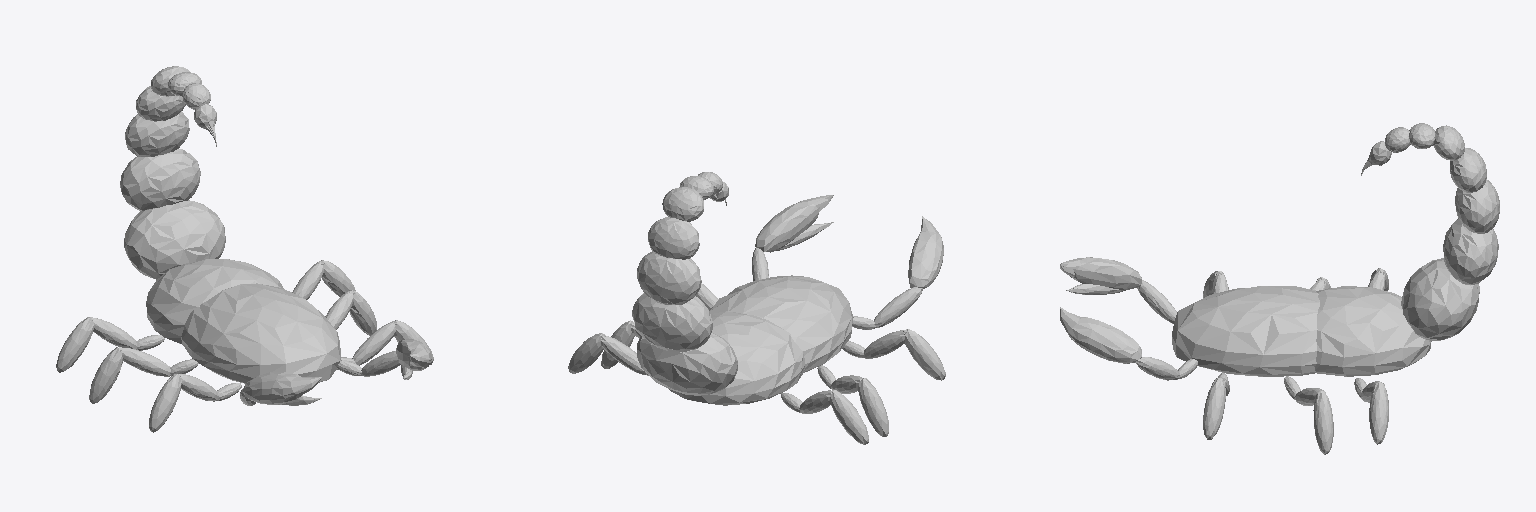
Rendered from scorpion_000029.obj.
The picture shows the model from 3 angles: view 1: azimuth 30°, elevation 25°; view 2: azimuth 150°, elevation 25°; view 3: azimuth 270°, elevation 25°; orthographic projection.
Visible parts, largest first — view 1: Sphere.010_Sphere.012, Sphere.002_Sphere.004, Sphere.011_Sphere.013, Sphere.003_Sphere.005, Sphere.030_Sphere.000, Sphere.004_Sphere.006, Sphere.012_Sphere.020, Sphere.014_Sphere.023, Sphere.013_Sphere.017, Sphere.000_Sphere.019, Sphere.016_Sphere.022, Sphere.018_Sphere.025 (+5 smaller); view 2: Sphere.010_Sphere.012, Sphere.011_Sphere.013, Sphere.002_Sphere.004, Sphere.030_Sphere.000, Sphere.003_Sphere.005, Sphere.004_Sphere.006, Sphere.014_Sphere.023, Sphere.005_Sphere.007, Sphere.012_Sphere.020, Sphere.028_Sphere.046, Sphere.018_Sphere.025, Sphere.006_Sphere.008 (+2 smaller); view 3: Sphere.010_Sphere.012, Sphere.011_Sphere.013, Sphere.002_Sphere.004, Sphere.030_Sphere.000, Sphere.003_Sphere.005, Sphere.004_Sphere.006, Sphere.028_Sphere.046, Sphere.005_Sphere.007, Sphere.000_Sphere.019, Sphere.014_Sphere.023, Sphere.012_Sphere.020, Sphere.006_Sphere.008 (+1 smaller).
Boxes of the visible parts, x1=… form: Sphere.010_Sphere.012: x1=181, y1=283, x2=340, y2=383; Sphere.002_Sphere.004: x1=124, y1=200, x2=225, y2=279; Sphere.011_Sphere.013: x1=146, y1=259, x2=283, y2=343; Sphere.003_Sphere.005: x1=120, y1=149, x2=200, y2=210; Sphere.030_Sphere.000: x1=243, y1=339, x2=431, y2=404; Sphere.004_Sphere.006: x1=125, y1=111, x2=189, y2=156; Sphere.012_Sphere.020: x1=89, y1=290, x2=376, y2=403; Sphere.014_Sphere.023: x1=56, y1=260, x2=355, y2=372; Sphere.013_Sphere.017: x1=179, y1=322, x2=395, y2=401; Sphere.000_Sphere.019: x1=149, y1=320, x2=433, y2=432; Sphere.016_Sphere.022: x1=121, y1=291, x2=353, y2=376; Sphere.018_Sphere.025: x1=92, y1=261, x2=323, y2=348; Sphere.010_Sphere.012: x1=709, y1=275, x2=852, y2=372; Sphere.011_Sphere.013: x1=669, y1=311, x2=804, y2=405; Sphere.002_Sphere.004: x1=637, y1=330, x2=737, y2=395; Sphere.030_Sphere.000: x1=755, y1=195, x2=943, y2=288; Sphere.003_Sphere.005: x1=632, y1=293, x2=712, y2=352; Sphere.004_Sphere.006: x1=637, y1=251, x2=701, y2=304; Sphere.014_Sphere.023: x1=568, y1=333, x2=868, y2=444; Sphere.005_Sphere.007: x1=648, y1=217, x2=699, y2=259; Sphere.012_Sphere.020: x1=601, y1=320, x2=888, y2=436; Sphere.028_Sphere.046: x1=752, y1=248, x2=922, y2=327; Sphere.018_Sphere.025: x1=601, y1=335, x2=831, y2=413; Sphere.006_Sphere.008: x1=662, y1=187, x2=703, y2=221; Sphere.010_Sphere.012: x1=1172, y1=286, x2=1319, y2=376; Sphere.011_Sphere.013: x1=1315, y1=286, x2=1431, y2=376; Sphere.002_Sphere.004: x1=1401, y1=258, x2=1479, y2=340; Sphere.030_Sphere.000: x1=1060, y1=257, x2=1141, y2=363; Sphere.003_Sphere.005: x1=1443, y1=218, x2=1498, y2=284; Sphere.004_Sphere.006: x1=1455, y1=179, x2=1499, y2=233; Sphere.028_Sphere.046: x1=1135, y1=280, x2=1179, y2=380; Sphere.005_Sphere.007: x1=1450, y1=148, x2=1486, y2=192; Sphere.000_Sphere.019: x1=1203, y1=271, x2=1225, y2=439; Sphere.014_Sphere.023: x1=1369, y1=268, x2=1388, y2=444; Sphere.012_Sphere.020: x1=1313, y1=277, x2=1333, y2=454; Sphere.006_Sphere.008: x1=1433, y1=125, x2=1464, y2=160.
Size of the model in its own units: 0.9535 by 0.7935 by 1.22.